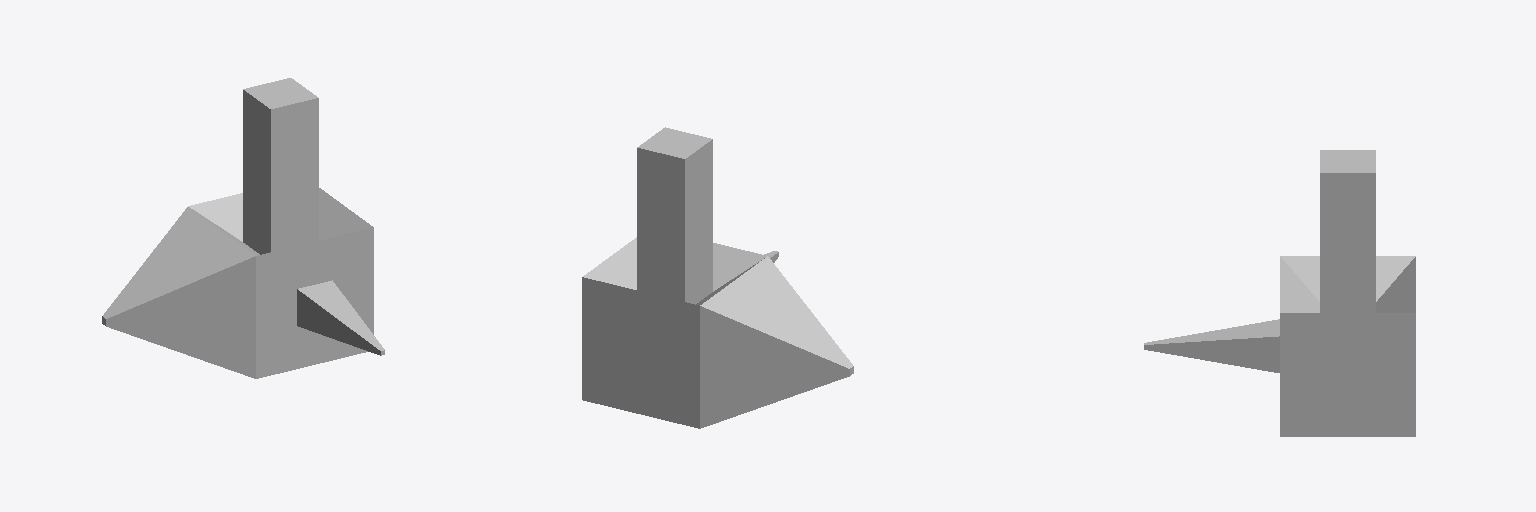
The model's file is axis.obj.
The picture shows the model from 3 angles: view 1: azimuth 30°, elevation 25°; view 2: azimuth 150°, elevation 25°; view 3: azimuth 270°, elevation 25°; orthographic projection.
Visible parts, largest first — view 1: Cube; view 2: Cube; view 3: Cube.
Boxes of the visible parts, box(x1,y1,x2,y2) form: Cube: box(102, 78, 384, 378); Cube: box(582, 127, 853, 428); Cube: box(1144, 150, 1415, 436).
Bounding box in the file's own units: 4 × 4 × 4.